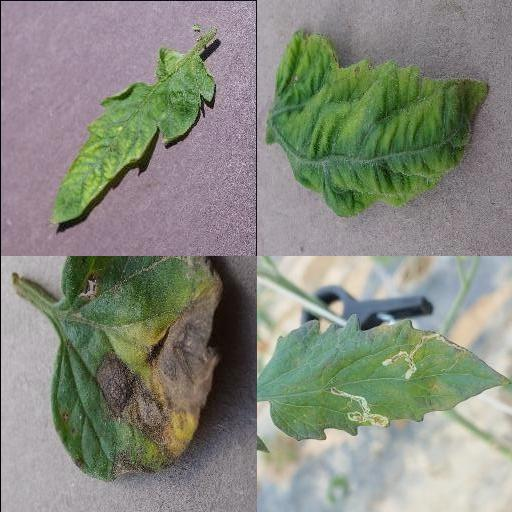Early Blight: (50, 257, 222, 483)
Leaf Miner: (256, 313, 511, 442)
Mosaic Virus: (49, 45, 215, 227)
Yellow Leaf Curl Virus: (267, 29, 491, 217)
